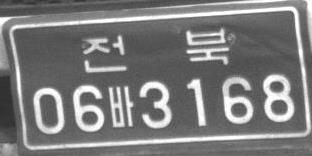0: (32, 87, 66, 134)
1: (182, 78, 212, 126)
3: (138, 79, 172, 128)
6: (71, 83, 105, 133), (221, 76, 253, 123)
8: (261, 72, 296, 122)
바: (107, 85, 133, 127)
전북_D: (80, 27, 230, 73)
